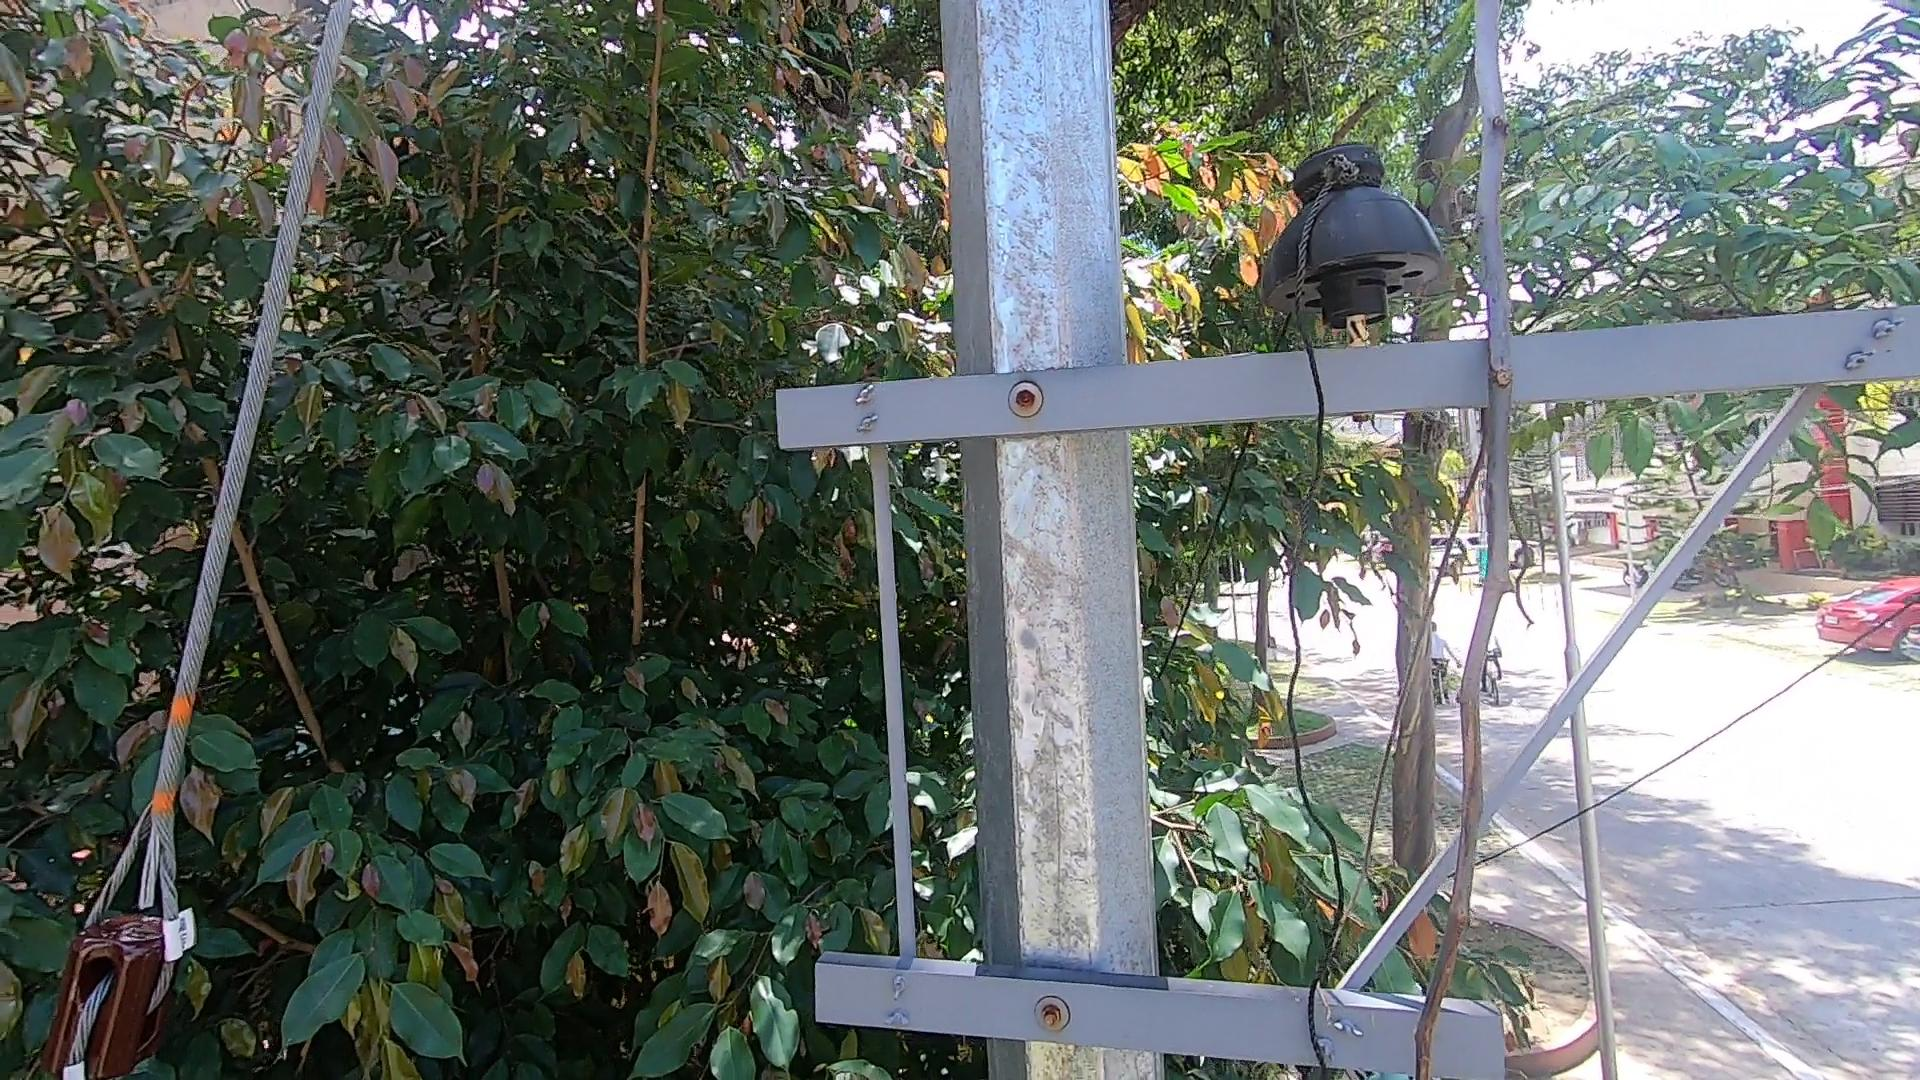branch with leaves: (1327, 893, 1556, 1025)
tree branch: (1408, 3, 1549, 1080)
